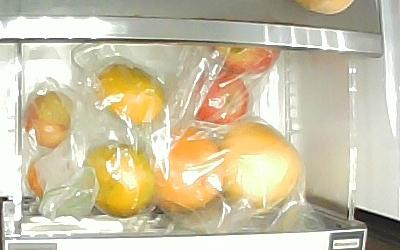apple_vinyl: (193, 71, 250, 129), (210, 44, 281, 75)
grapefruit_vinyl: (221, 123, 302, 213), (153, 127, 225, 215)
persimmon_vinyl: (83, 144, 156, 219), (96, 64, 165, 128)
prune_vinyl: (25, 92, 71, 150)
